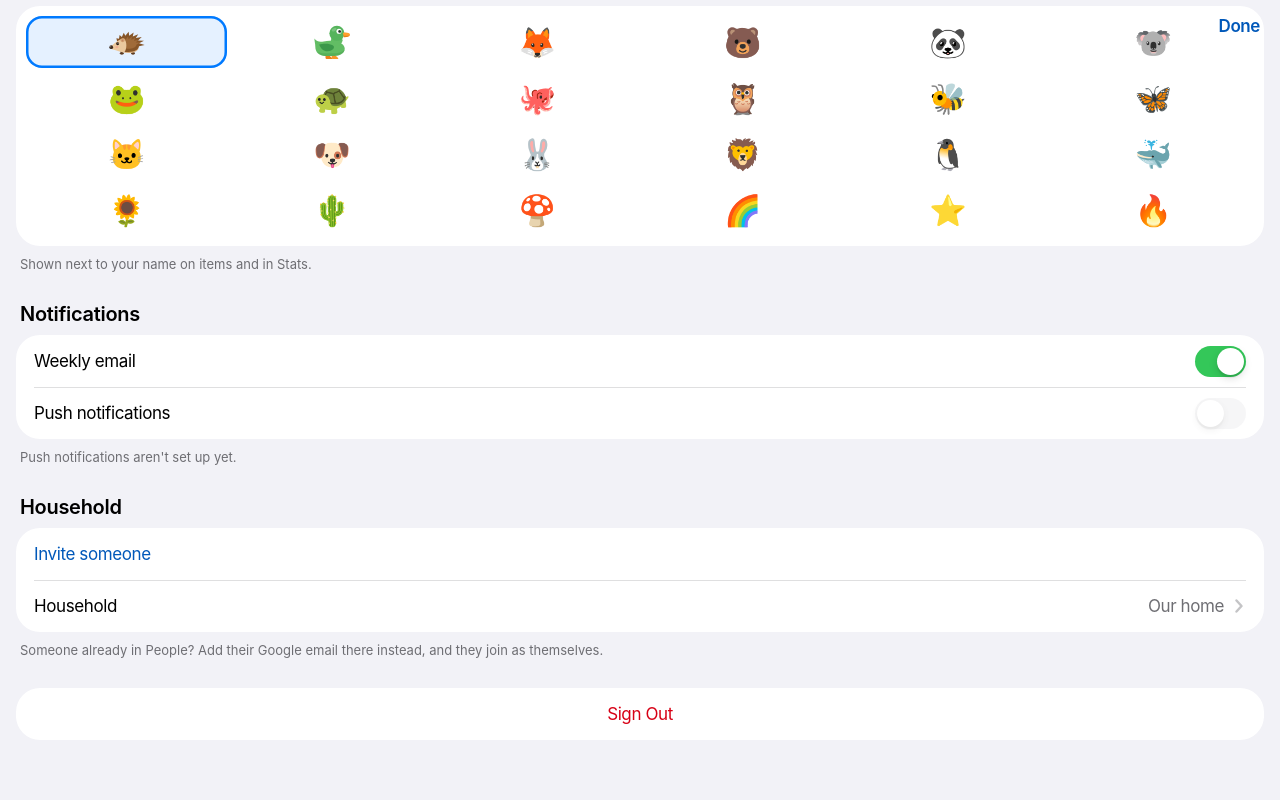
Test case: Profile › copies a reusable invite link when there is no share sheet
Later steps or results of the test are not shown.
(page scrolled)
Step 1. Click the button "Invite someone" → {"x": 92, "y": 554}, box [16, 528, 1264, 580]
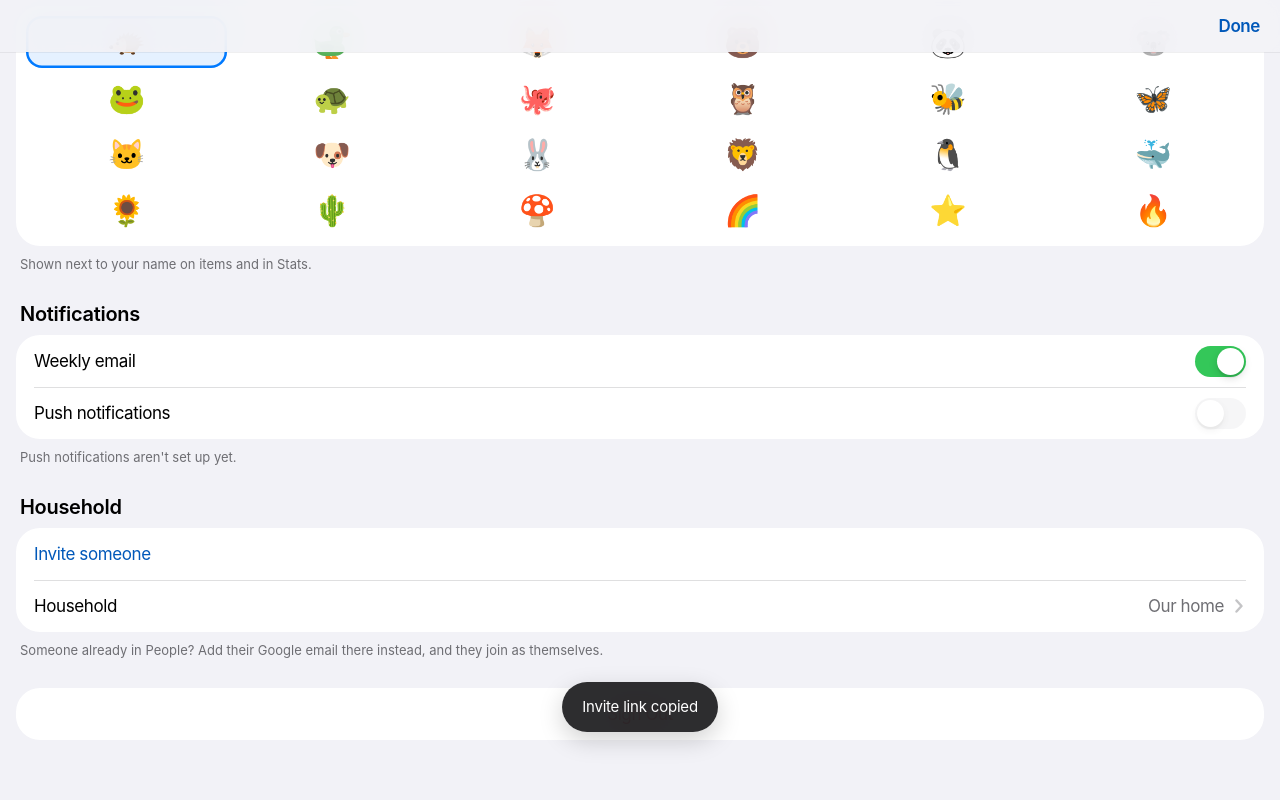
expect the text "Invite link copied" is shown: met, box [582, 697, 698, 716]
